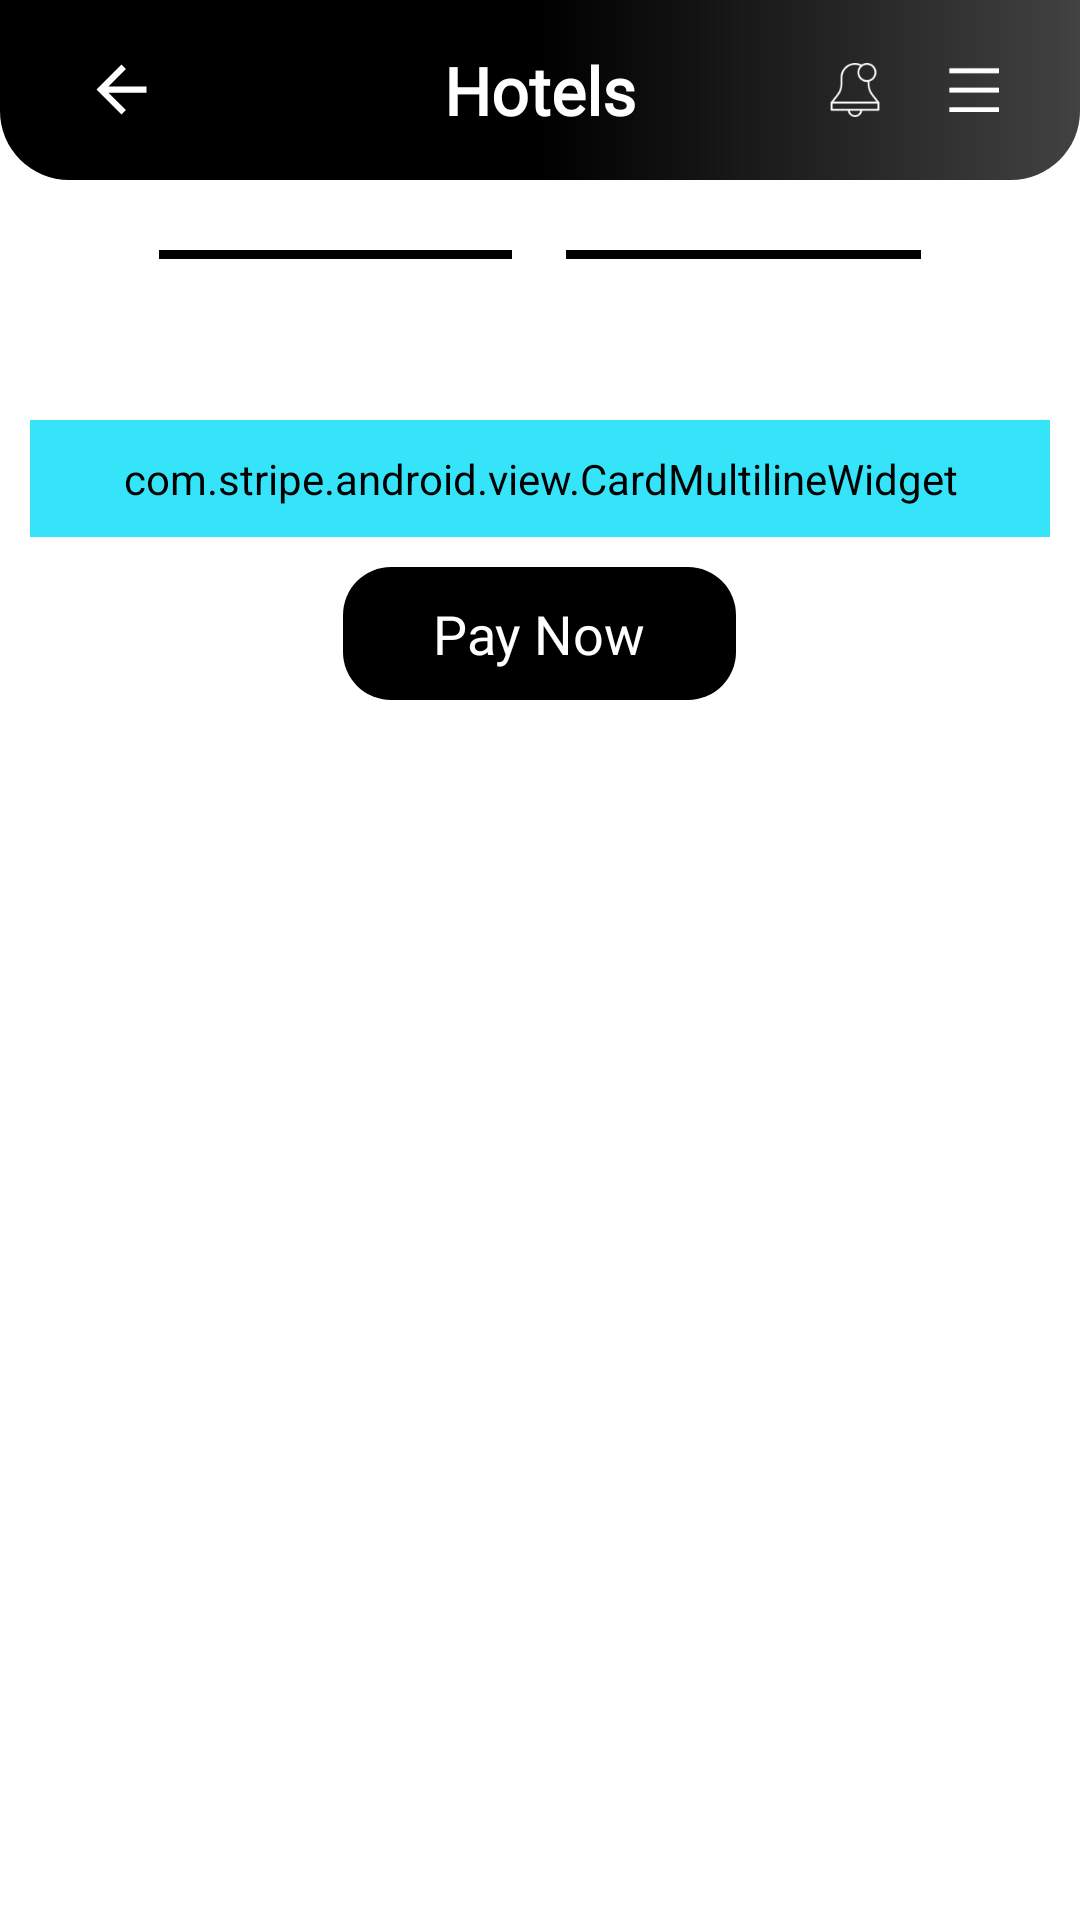

Named icons in this screenshot (1080 x 1920) and their centers, [x,y]:
arrow back: [121,89]
bars: [974,90]
